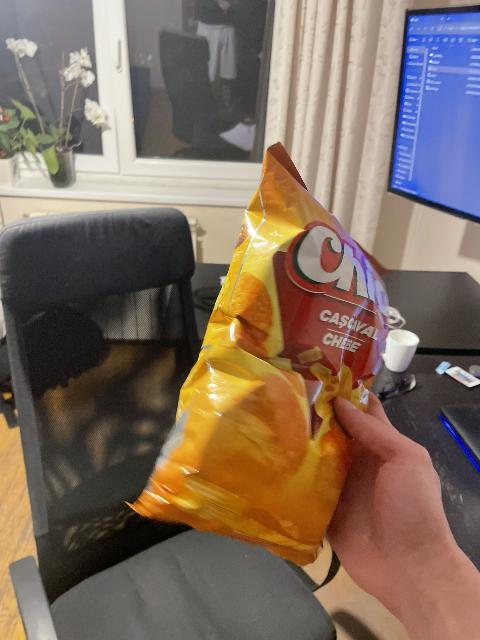Chio Cascaval 125g: (127, 143, 391, 557)
